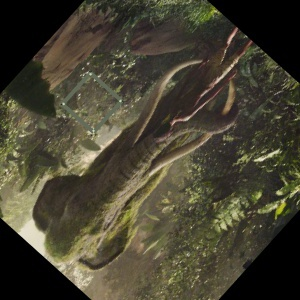square: (59, 71, 123, 134)
